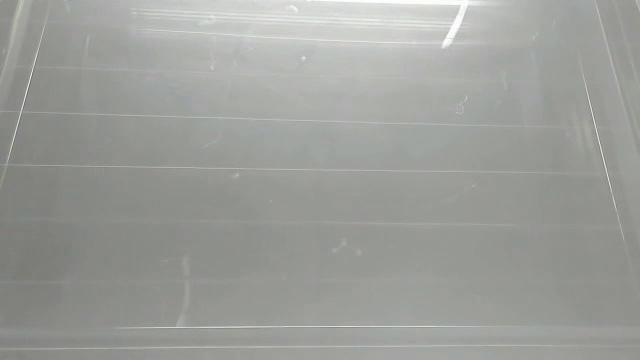alpha: (439, 1, 475, 50), (174, 251, 195, 332)
